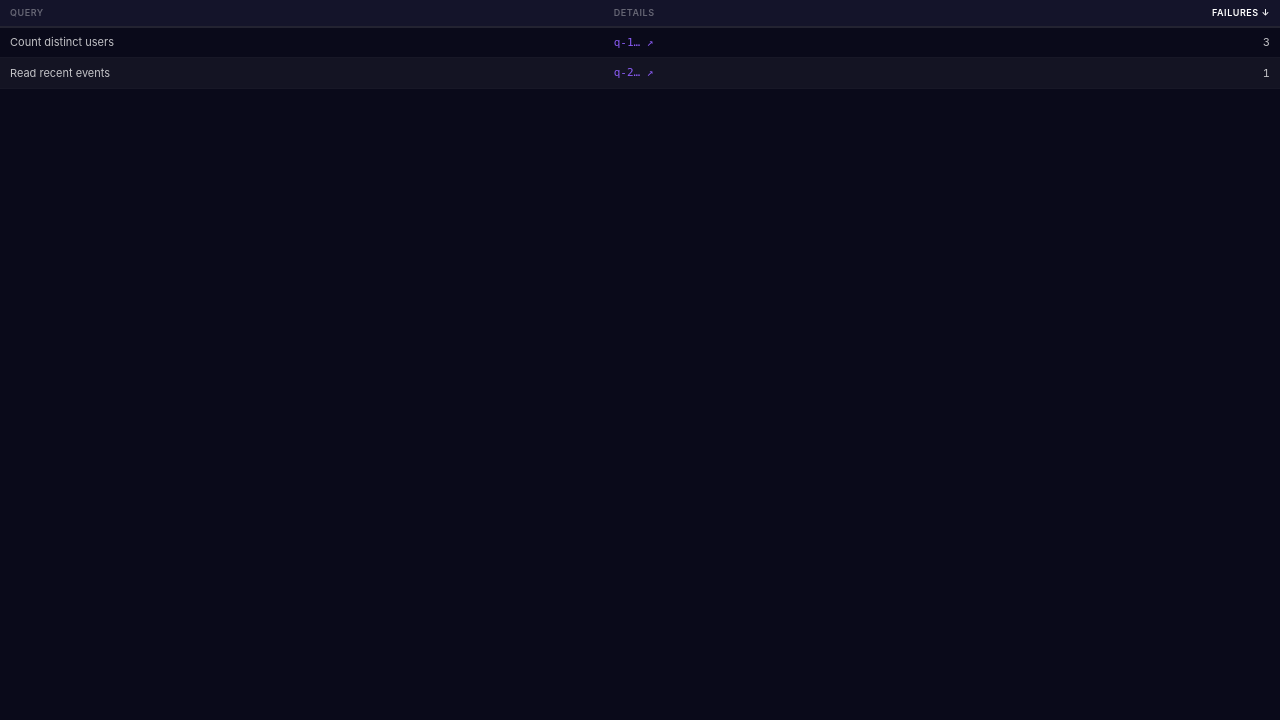
it: notebook table presentation › shows readable columns, preserves raw details, and respects user sorting
Expected: the text "secret-hash-1" is not shown
Expected: the column heading "Query" is shown, [0,0,604,26]
What coordinates should you click on to do the following:
click the column heading "Failures ↓"
I would click on:
 (1090, 13)
Its box is [900,0,1279,26].
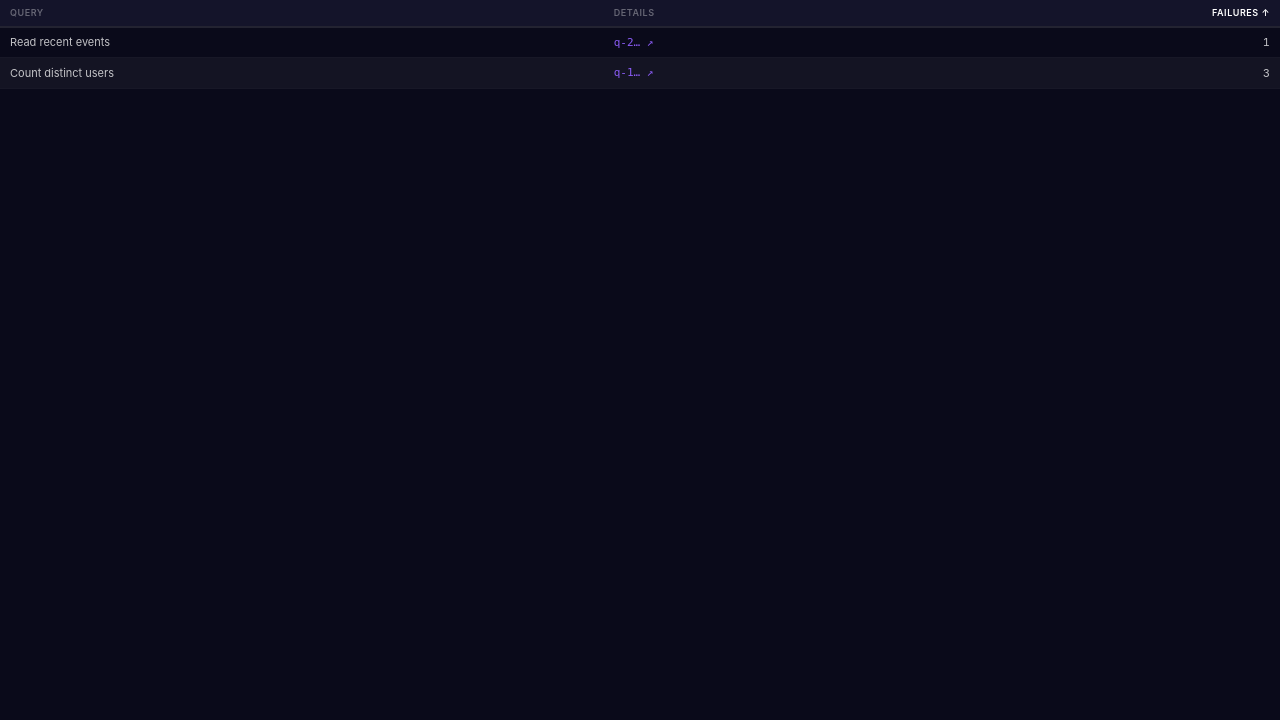
Expected: the text "Read recent events" is shown, [0,26,604,58]
What coordinates should you click on to do the following:
click the text "Count distinct users"
I would click on:
 (302, 73)
Its box is [0,58,604,88].
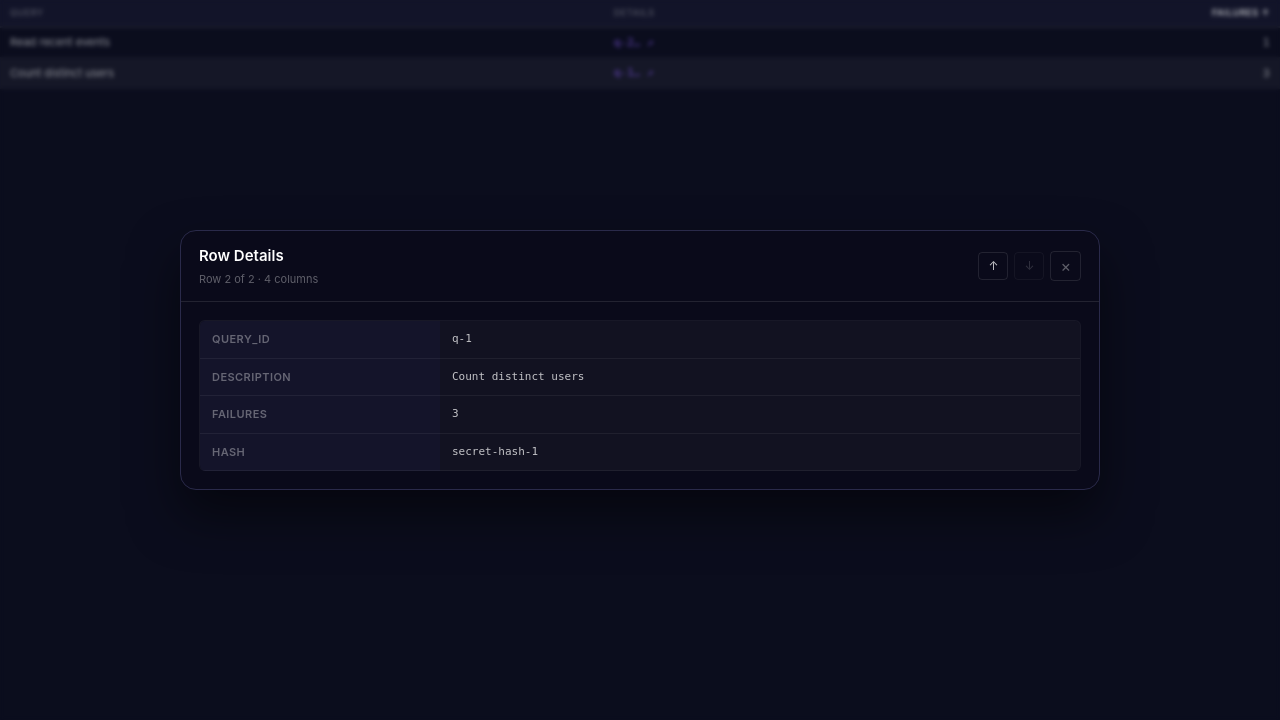
Expected: the text "secret-hash-1" is shown, [452,444,538,458]
